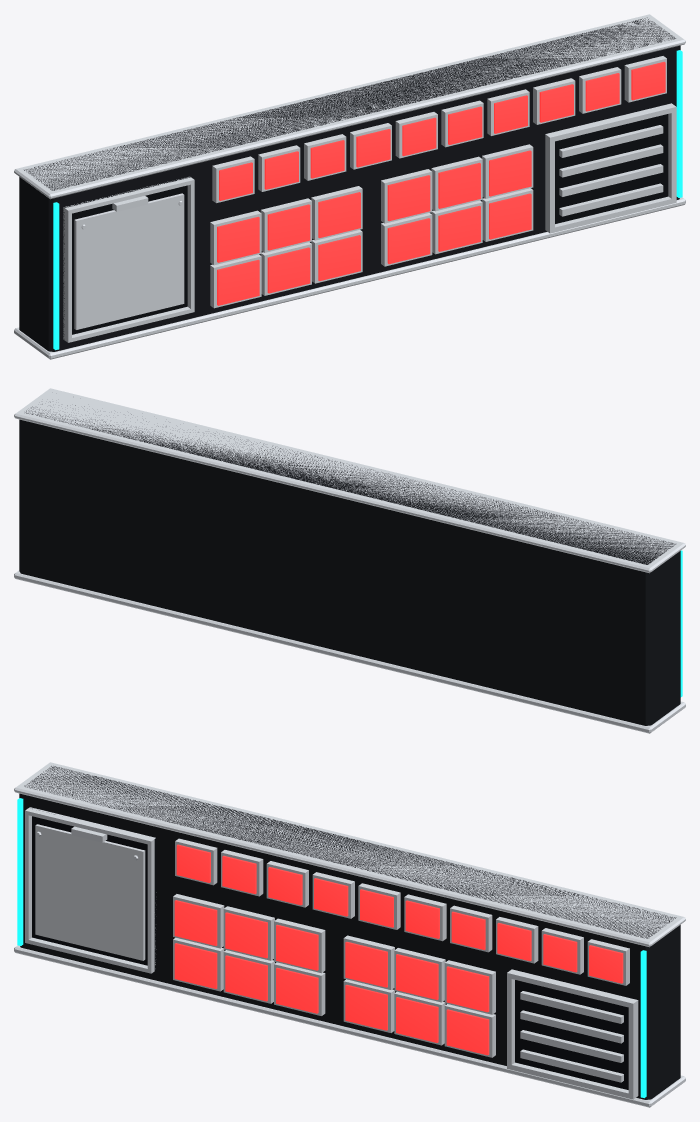
Rendered from rb_square_grid.glb.
3 renders of one model, top to bottom at view 1: azimuth 30°, elevation 25°; view 2: azimuth 150°, elevation 25°; view 3: azimuth 330°, elevation 25°, orthographic.
Visible parts, largest first — view 1: rb_square_grid_chrome, rb_square_grid_deco_body, rb_square_grid_lamp_tail, rb_square_grid_deco_plate, rb_square_grid_deco_trim, rb_square_grid_deco_neon; view 2: rb_square_grid_deco_body, rb_square_grid_chrome; view 3: rb_square_grid_chrome, rb_square_grid_deco_body, rb_square_grid_lamp_tail, rb_square_grid_deco_plate, rb_square_grid_deco_trim, rb_square_grid_deco_neon.
Part boxes in pixels (x1,y1,x2,y2): rb_square_grid_chrome: (14, 14, 685, 359); rb_square_grid_deco_body: (19, 17, 680, 351); rb_square_grid_lamp_tail: (217, 61, 665, 305); rb_square_grid_deco_plate: (74, 193, 184, 329); rb_square_grid_deco_trim: (63, 114, 668, 339); rb_square_grid_deco_neon: (53, 50, 682, 350); rb_square_grid_deco_body: (19, 402, 680, 725); rb_square_grid_chrome: (14, 388, 685, 733); rb_square_grid_chrome: (14, 762, 685, 1107); rb_square_grid_deco_body: (19, 766, 680, 1099); rb_square_grid_lamp_tail: (174, 844, 623, 1055); rb_square_grid_deco_plate: (35, 824, 145, 960); rb_square_grid_deco_trim: (29, 807, 628, 1089); rb_square_grid_deco_neon: (17, 798, 646, 1098).
Size of the model in its own units: 2.42 by 0.6 by 0.273.
